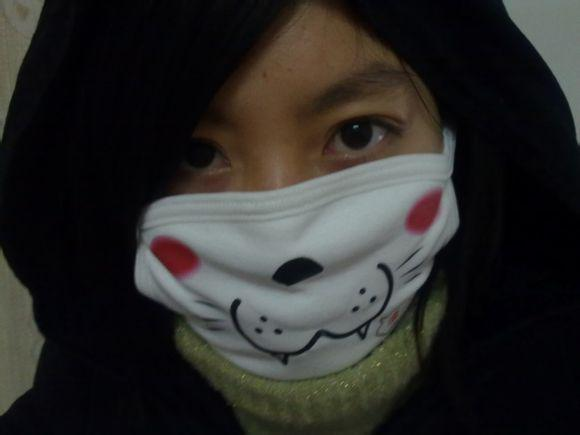OK: (147, 99, 432, 384)
